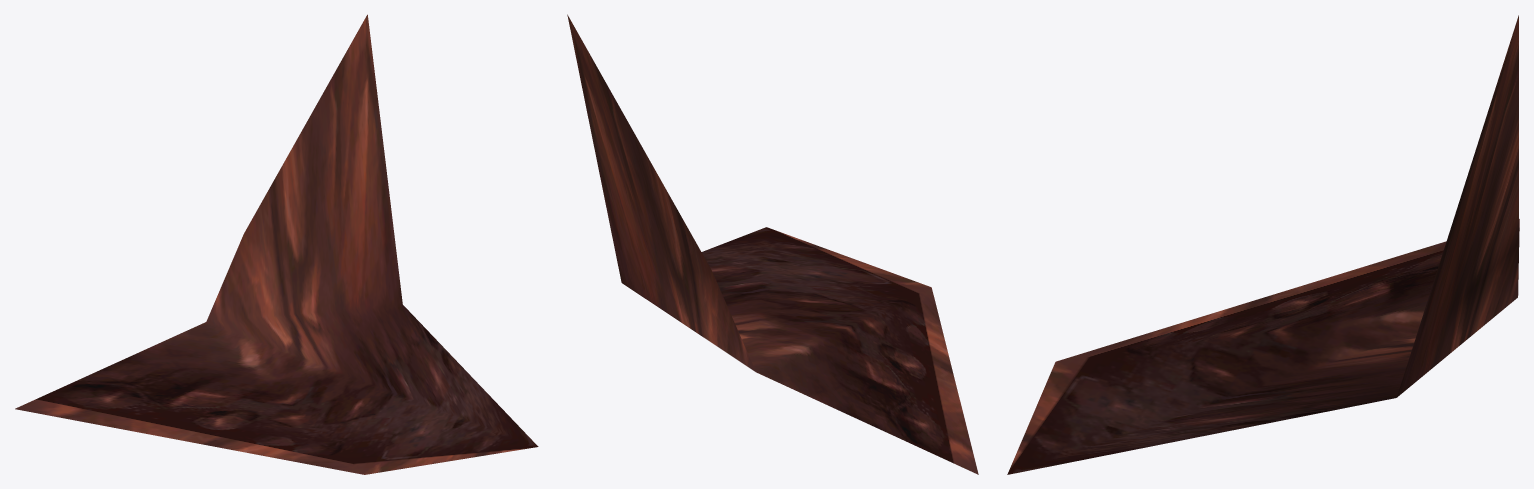
Rendered from lava_trim_endcap_02.fbx.
The picture shows the model from 3 angles, left to right: view 1: azimuth 30°, elevation 25°; view 2: azimuth 150°, elevation 25°; view 3: azimuth 270°, elevation 25°; orthographic projection. The views are drawn at different scales.
Parts seen in each view (by area): view 1: lava_tileset/trim_alpha; view 2: lava_tileset/trim_alpha; view 3: lava_tileset/trim_alpha.
Part boxes in pixels (x1,y1,x2,y2): lava_tileset/trim_alpha: [15, 14, 538, 474]; lava_tileset/trim_alpha: [567, 14, 978, 474]; lava_tileset/trim_alpha: [1007, 15, 1519, 474].
Size of the model in its own units: 1.38 by 1.15 by 1.15.
